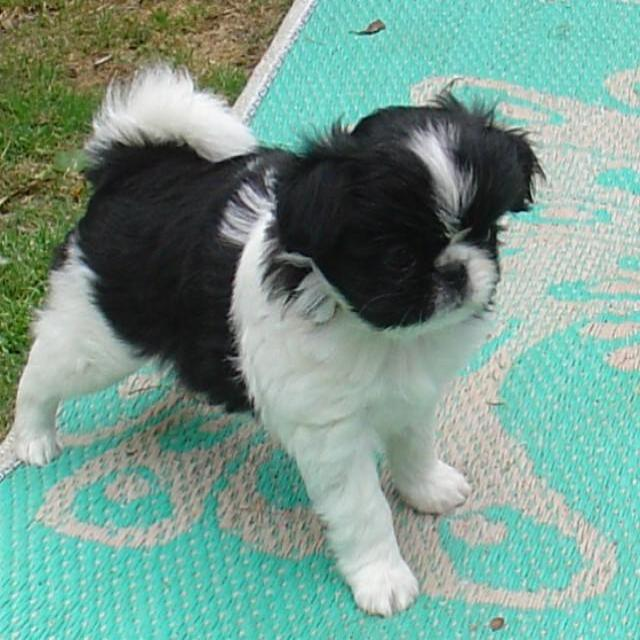relax: (13, 34, 577, 626)
